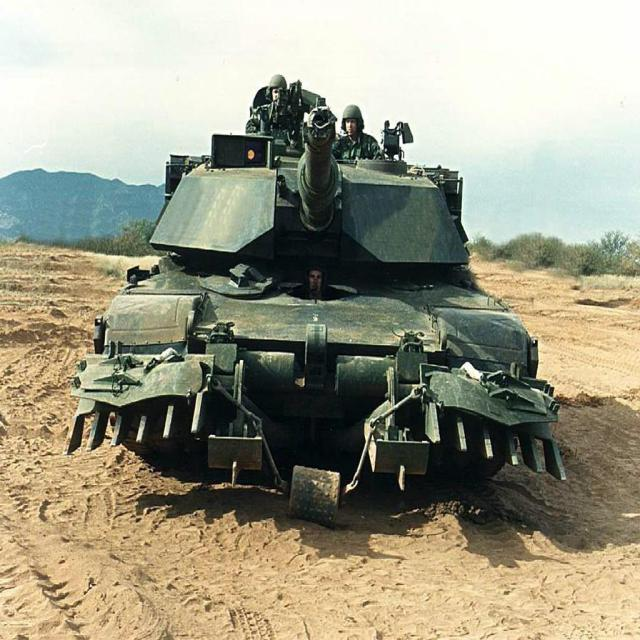Tanks: (103, 53, 559, 591)
